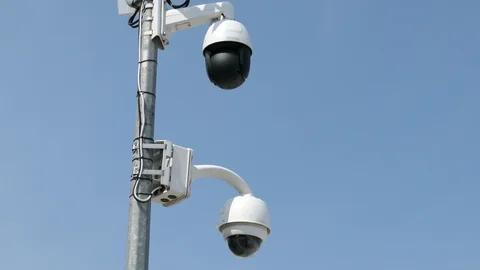360-Cam: (199, 15, 259, 94), (217, 192, 275, 261)
